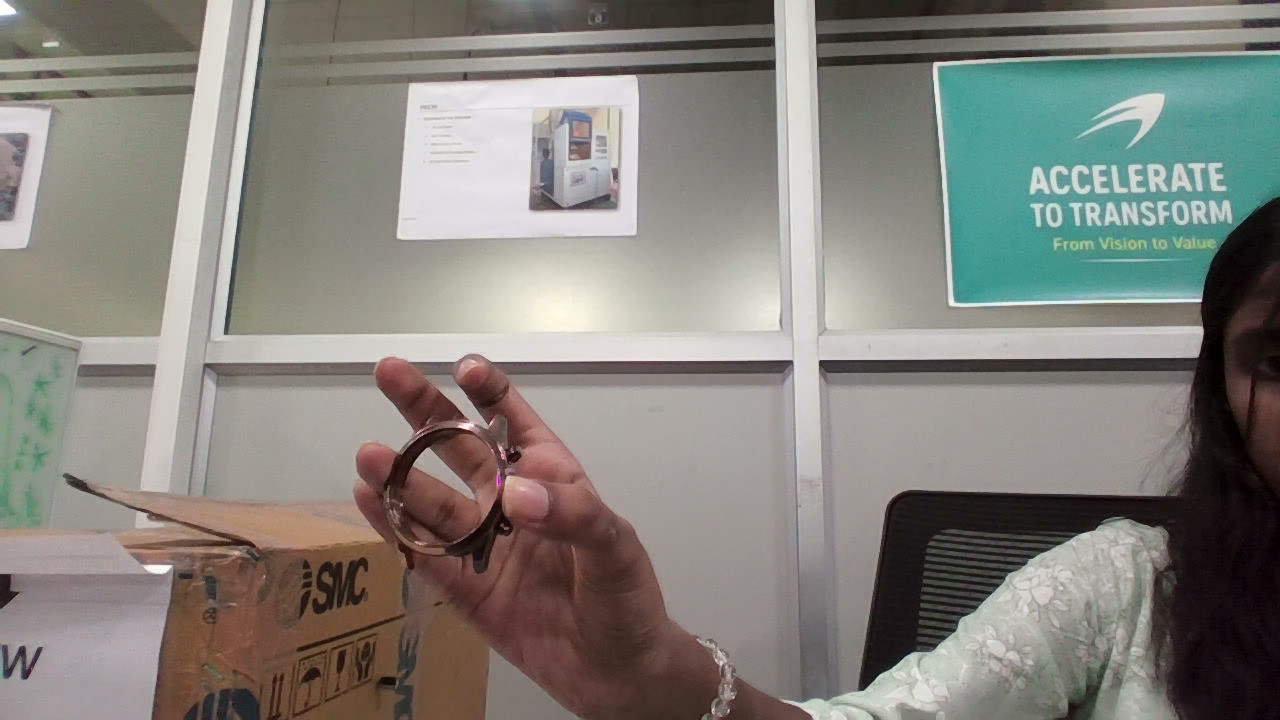case2: (380, 399, 527, 575)
